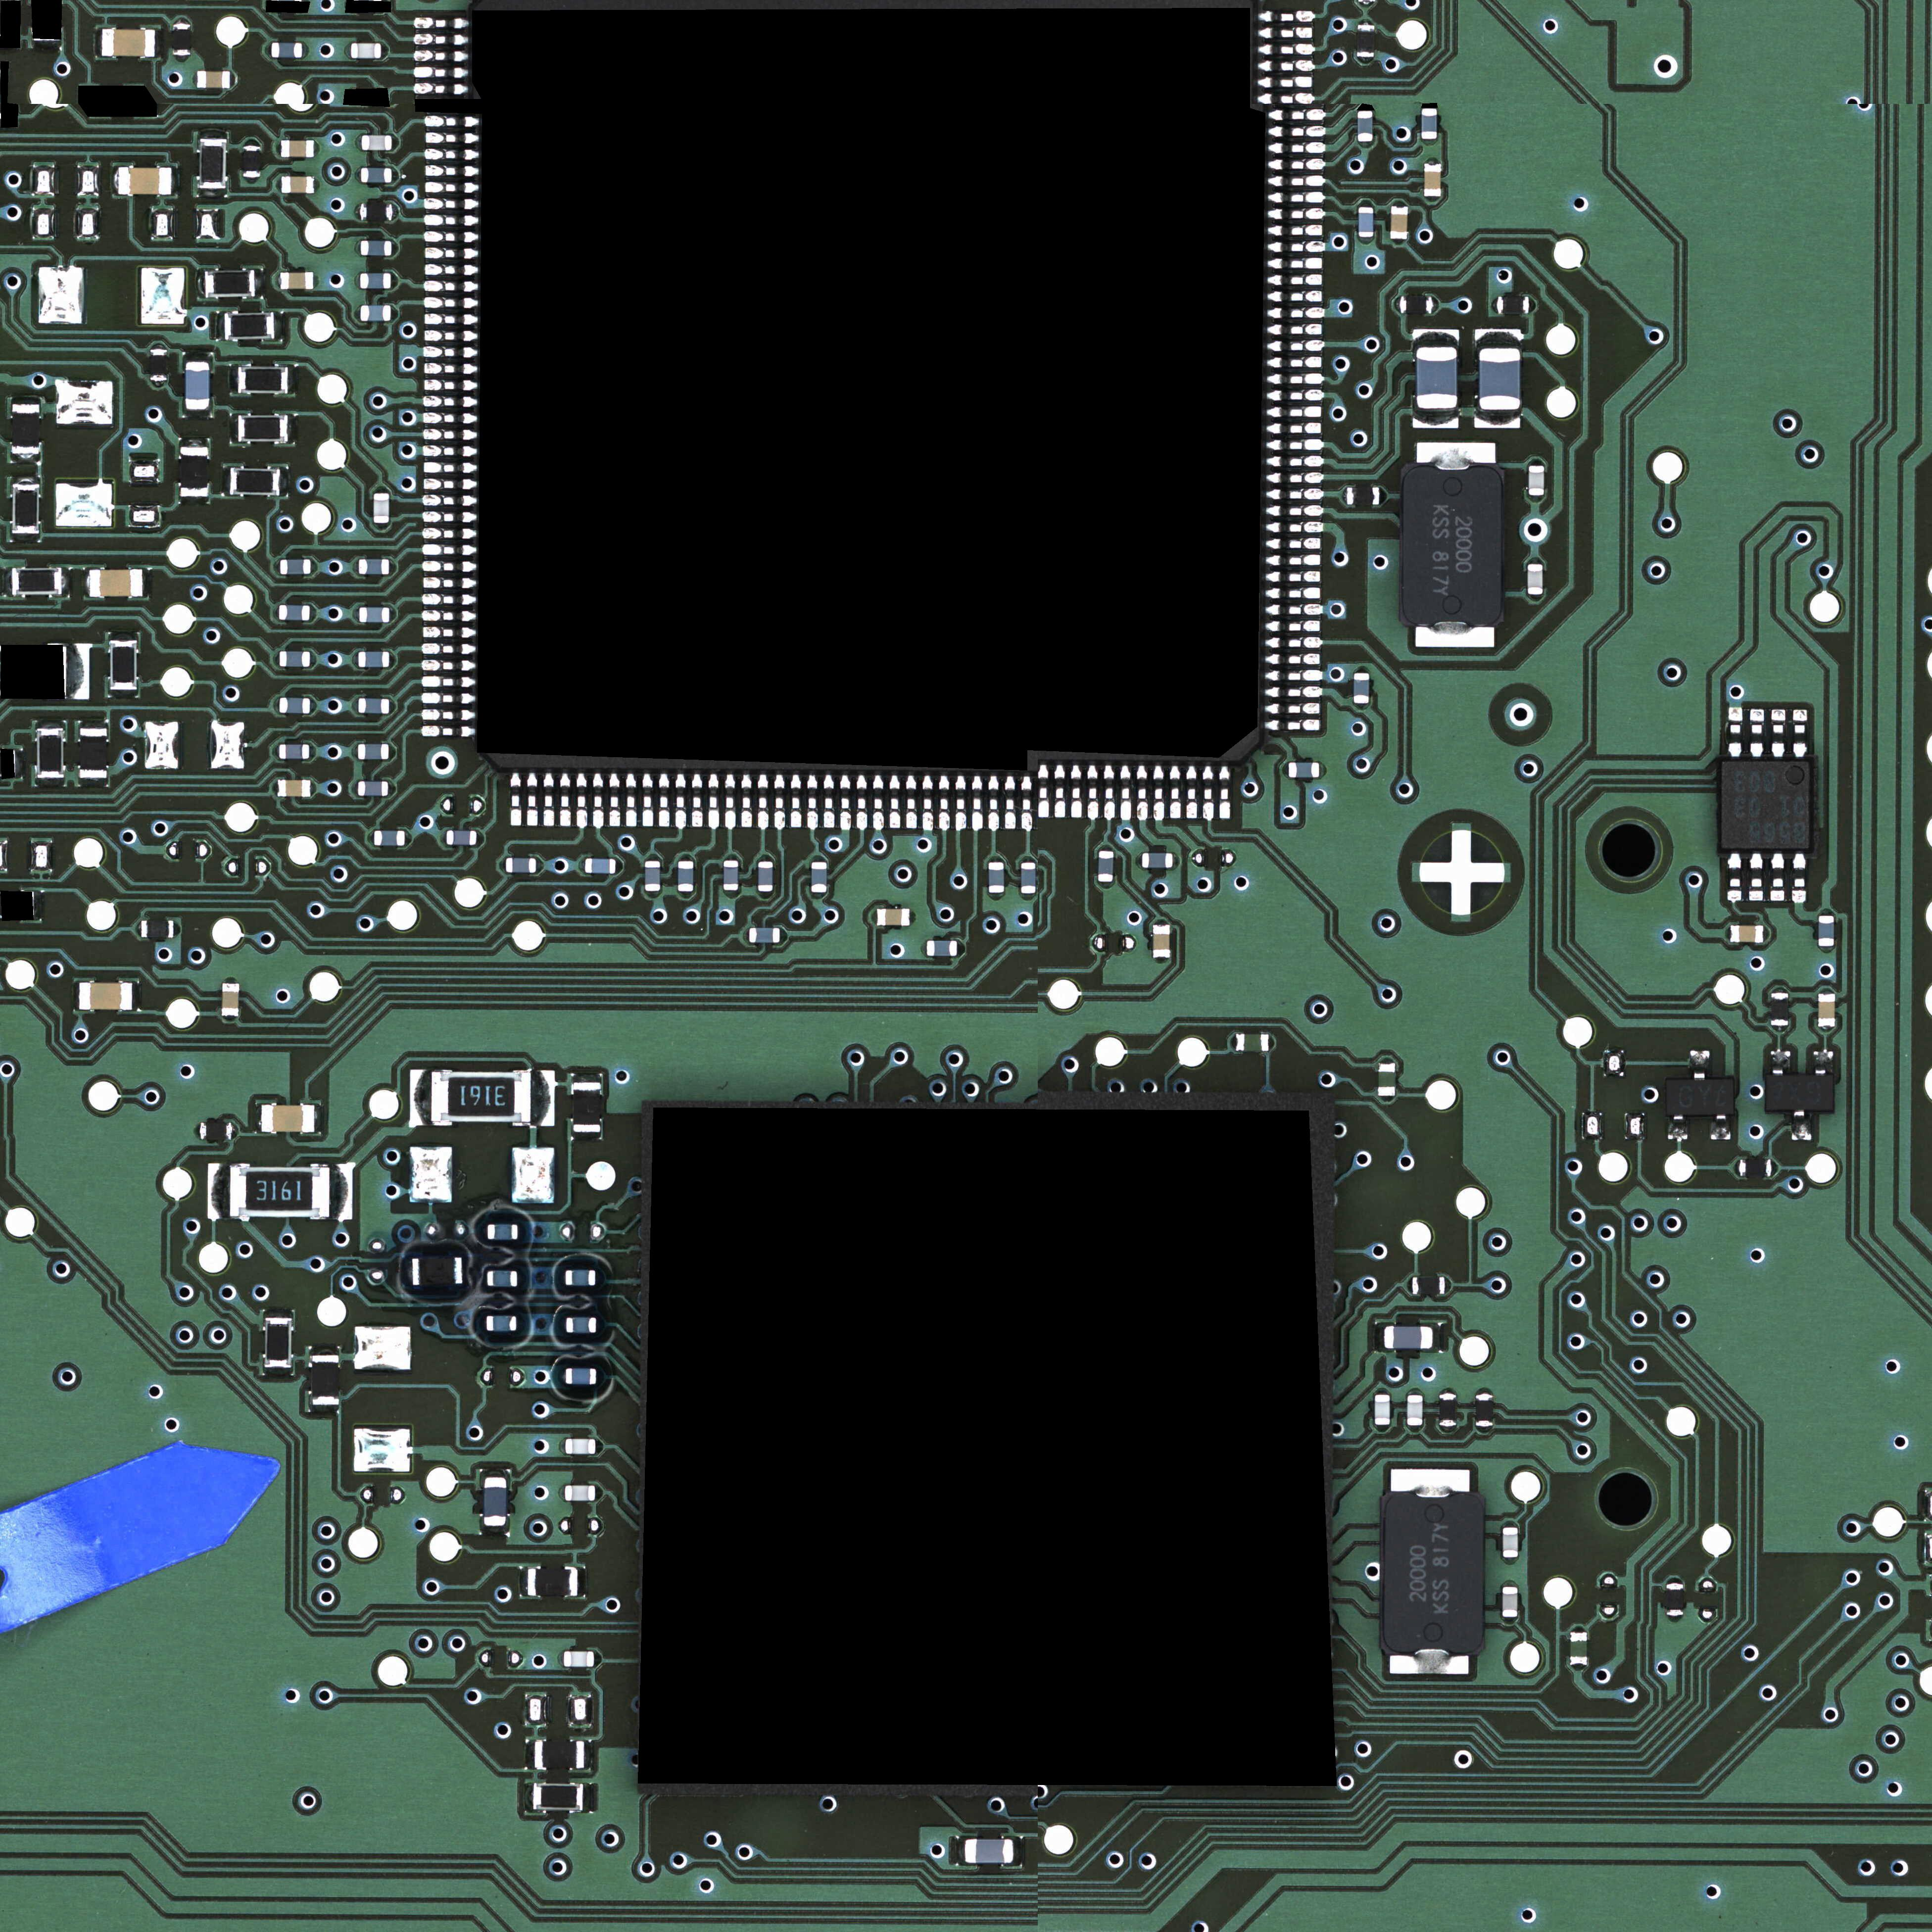Package: (1401, 465, 1504, 625), (1382, 1491, 1483, 1652), (1720, 761, 1810, 849), (432, 1070, 531, 1123), (230, 1168, 329, 1217), (1667, 1077, 1736, 1115), (1417, 347, 1458, 409), (1479, 349, 1520, 409), (1766, 1076, 1833, 1111), (412, 1256, 464, 1286), (119, 166, 172, 195), (80, 982, 133, 1010), (88, 570, 143, 596), (527, 1568, 579, 1596), (262, 1106, 315, 1132), (103, 30, 156, 57), (534, 1741, 584, 1769), (573, 1083, 602, 1132), (311, 1355, 340, 1405), (180, 448, 209, 497), (533, 1783, 584, 1810), (200, 138, 226, 189), (230, 469, 280, 495), (237, 416, 287, 442), (12, 403, 39, 453), (205, 271, 255, 297), (265, 1318, 292, 1368), (225, 313, 274, 340), (12, 485, 39, 534), (80, 729, 106, 778), (237, 368, 288, 393), (12, 570, 62, 594), (964, 1838, 1014, 1863), (111, 640, 136, 690), (37, 729, 62, 778), (186, 363, 211, 410), (1384, 1327, 1433, 1348), (485, 1477, 506, 1527), (242, 145, 262, 177), (1476, 1394, 1493, 1428), (1412, 1277, 1445, 1295), (1771, 993, 1789, 1026), (1730, 925, 1764, 943), (1399, 295, 1431, 313), (221, 984, 239, 1016), (281, 140, 313, 157), (1739, 1159, 1771, 1177), (1391, 207, 1408, 239), (198, 71, 230, 88), (1424, 165, 1442, 196), (1237, 1033, 1269, 1051), (361, 203, 393, 221), (200, 1122, 232, 1139), (1357, 25, 1375, 57), (142, 920, 173, 938), (1378, 1063, 1396, 1095), (281, 177, 315, 193), (1819, 993, 1835, 1026), (1346, 488, 1380, 504), (566, 1316, 596, 1334), (566, 1368, 596, 1385), (173, 25, 191, 55), (357, 743, 389, 759), (1353, 672, 1369, 704), (281, 272, 313, 288), (878, 909, 909, 925), (1497, 297, 1529, 313), (271, 42, 303, 58), (278, 780, 310, 796), (1571, 1633, 1587, 1665), (1440, 1394, 1456, 1426), (280, 559, 311, 575), (1667, 1583, 1683, 1615), (1154, 925, 1169, 957), (989, 862, 1005, 893), (357, 780, 387, 796), (359, 607, 389, 623), (487, 1270, 517, 1286), (1407, 1396, 1422, 1426), (359, 651, 389, 667), (280, 697, 310, 713), (1529, 465, 1545, 495), (359, 559, 389, 575), (488, 1224, 518, 1240), (280, 743, 310, 759), (373, 494, 389, 524), (1421, 108, 1437, 138), (566, 1438, 596, 1454), (350, 88, 380, 104), (566, 1270, 596, 1286), (280, 651, 310, 667), (1357, 111, 1373, 142), (586, 858, 616, 874), (280, 605, 310, 621), (361, 272, 391, 288), (1375, 1394, 1391, 1424), (361, 241, 391, 257), (1819, 916, 1835, 947), (564, 1651, 594, 1667), (750, 927, 780, 943), (150, 350, 166, 380), (1502, 1587, 1518, 1617), (678, 862, 694, 892), (352, 42, 380, 58), (566, 1484, 594, 1500), (373, 832, 405, 846), (363, 134, 391, 150), (448, 830, 476, 846), (1288, 763, 1320, 777), (1141, 853, 1173, 867), (359, 699, 389, 713), (646, 862, 660, 892), (759, 862, 773, 892), (361, 306, 391, 320), (1529, 564, 1543, 594), (1099, 851, 1113, 881), (927, 941, 957, 955), (812, 862, 826, 892), (487, 1316, 517, 1330), (506, 858, 536, 872), (1021, 863, 1035, 893), (724, 860, 738, 890), (1359, 207, 1373, 237), (361, 168, 391, 182), (1504, 1527, 1518, 1557)
Solder: (1415, 441, 1495, 465), (1391, 1468, 1470, 1491), (1415, 626, 1495, 648), (1391, 1654, 1468, 1674), (533, 1070, 556, 1127), (331, 1164, 352, 1221), (67, 644, 88, 701), (209, 1164, 230, 1219), (410, 1070, 430, 1127), (1414, 409, 1460, 428), (1474, 410, 1522, 428), (1476, 329, 1523, 347), (1727, 708, 1743, 759), (1414, 329, 1460, 347), (1792, 709, 1806, 759), (1792, 853, 1806, 902), (1771, 709, 1785, 759), (1750, 709, 1764, 759), (1136, 764, 1148, 821), (1258, 42, 1315, 55), (1258, 92, 1315, 104), (414, 18, 469, 30), (414, 34, 469, 46), (414, 50, 469, 62), (414, 83, 469, 96), (425, 147, 479, 159), (425, 182, 479, 195), (425, 198, 479, 211), (425, 214, 479, 226), (425, 264, 479, 276), (425, 280, 479, 292), (425, 295, 479, 308), (423, 462, 478, 474), (423, 395, 478, 407), (423, 446, 478, 458), (423, 478, 478, 490), (421, 642, 476, 655), (421, 658, 476, 671), (421, 694, 476, 706), (421, 725, 476, 738), (423, 559, 478, 571), (423, 575, 478, 587), (423, 511, 478, 524), (971, 775, 984, 830), (1102, 764, 1115, 819), (1258, 76, 1313, 88), (1771, 853, 1785, 901), (1727, 853, 1741, 901), (1750, 853, 1764, 901), (426, 115, 479, 127), (426, 131, 479, 143), (425, 331, 478, 343), (425, 347, 478, 359), (425, 363, 478, 375), (425, 379, 478, 391), (423, 593, 476, 605), (423, 626, 476, 639), (1185, 766, 1198, 819), (1790, 1111, 1812, 1141), (1269, 175, 1327, 186), (1267, 439, 1325, 449), (989, 775, 1000, 832), (1154, 764, 1164, 821), (1258, 11, 1315, 21), (1258, 60, 1315, 71), (1269, 110, 1325, 120), (1269, 159, 1325, 170), (1269, 191, 1325, 202), (1269, 209, 1325, 219), (1269, 242, 1325, 253), (1267, 389, 1323, 400), (1267, 373, 1323, 384), (1269, 308, 1325, 318), (1267, 324, 1323, 334), (1267, 456, 1323, 467), (1267, 472, 1323, 483), (1267, 488, 1323, 499), (1267, 504, 1323, 515), (1267, 522, 1323, 533), (1265, 655, 1322, 665), (1265, 671, 1322, 681), (1265, 571, 1322, 582), (1265, 605, 1322, 616), (1265, 637, 1322, 648), (1265, 686, 1322, 697), (1265, 704, 1322, 715), (414, 67, 469, 78), (425, 165, 479, 175), (425, 232, 479, 242), (425, 248, 479, 258), (425, 315, 479, 326), (423, 412, 478, 423), (423, 428, 478, 439), (423, 495, 478, 506), (421, 678, 476, 688), (421, 709, 476, 720), (423, 545, 478, 556), (423, 527, 478, 538), (577, 773, 587, 828), (593, 773, 603, 828), (807, 775, 817, 830), (775, 775, 786, 830), (676, 773, 686, 828), (708, 775, 718, 830), (725, 775, 736, 830), (955, 775, 966, 830), (939, 775, 950, 830), (922, 775, 932, 830), (840, 775, 851, 830), (856, 775, 867, 830), (872, 775, 883, 830), (890, 775, 901, 830), (1021, 777, 1031, 832), (1039, 764, 1049, 819), (1054, 764, 1065, 819), (1120, 764, 1131, 819), (1258, 28, 1313, 39), (1269, 225, 1323, 235), (1269, 258, 1323, 269), (1269, 292, 1323, 303), (1267, 407, 1322, 418), (1267, 357, 1322, 368), (1267, 423, 1322, 433), (1265, 587, 1320, 598), (1265, 621, 1320, 632), (1265, 556, 1320, 566), (1265, 720, 1320, 731), (423, 610, 476, 621), (511, 773, 522, 826), (527, 773, 538, 826), (543, 773, 554, 826), (561, 773, 571, 826), (609, 773, 619, 826), (626, 773, 637, 826), (642, 773, 653, 826), (658, 773, 669, 826), (741, 775, 752, 828), (791, 775, 801, 828), (692, 773, 702, 826), (906, 775, 916, 828), (1005, 777, 1016, 830), (1203, 766, 1214, 819), (1219, 766, 1230, 819), (1169, 764, 1180, 817), (1269, 274, 1322, 285), (1267, 538, 1320, 548), (1690, 1051, 1709, 1079), (1088, 766, 1099, 817), (1269, 127, 1327, 136), (1269, 143, 1325, 152), (1269, 341, 1325, 350), (759, 775, 768, 830), (1711, 1115, 1730, 1139), (1668, 1115, 1688, 1139), (1771, 1051, 1790, 1076), (824, 775, 833, 828), (1072, 764, 1081, 817), (1813, 1051, 1833, 1074), (34, 890, 44, 924), (179, 437, 211, 448), (16, 748, 27, 778), (32, 41, 62, 51), (1433, 1323, 1444, 1352), (182, 352, 214, 361), (9, 534, 41, 543), (78, 778, 110, 787), (518, 1566, 527, 1598), (308, 1405, 340, 1414), (11, 455, 41, 464), (525, 1739, 534, 1769), (78, 720, 108, 729), (479, 1527, 510, 1536), (479, 1468, 510, 1477), (579, 1568, 587, 1598), (262, 1368, 292, 1376), (108, 632, 138, 640), (172, 166, 180, 196), (196, 189, 226, 198), (198, 129, 228, 138), (255, 269, 264, 299), (196, 269, 205, 299), (274, 311, 283, 341), (216, 311, 225, 341), (288, 364, 297, 395), (228, 364, 237, 395), (288, 414, 297, 444), (62, 568, 71, 598), (4, 568, 12, 598), (584, 1783, 593, 1813), (524, 1783, 533, 1813), (264, 1309, 294, 1318), (310, 1346, 340, 1355), (35, 778, 65, 787), (35, 720, 65, 729), (108, 690, 138, 699), (584, 1741, 593, 1769), (94, 27, 101, 58), (571, 1074, 602, 1081), (11, 476, 41, 483), (182, 410, 212, 418), (156, 28, 163, 58), (179, 497, 209, 504), (281, 467, 288, 497), (230, 414, 237, 444), (81, 568, 88, 598), (143, 568, 150, 598), (571, 1132, 602, 1139), (11, 396, 41, 403), (111, 166, 119, 195), (223, 467, 230, 495), (1376, 1323, 1384, 1352), (315, 1104, 322, 1132), (133, 982, 140, 1010), (1014, 1836, 1021, 1865), (957, 1836, 964, 1865), (255, 1102, 260, 1134), (464, 1256, 469, 1286), (407, 1256, 412, 1286), (74, 980, 80, 1010), (1097, 881, 1115, 890), (1421, 138, 1438, 147), (391, 241, 400, 257), (380, 88, 389, 104), (391, 134, 400, 150), (391, 168, 400, 184), (387, 780, 396, 796), (476, 830, 485, 846), (724, 890, 740, 899), (1407, 1387, 1422, 1396), (517, 1316, 525, 1332), (596, 1368, 605, 1384), (557, 1368, 566, 1384), (594, 1484, 603, 1500), (596, 1270, 605, 1286), (343, 44, 352, 58), (391, 272, 398, 290), (173, 18, 191, 25), (957, 939, 964, 957), (987, 893, 1005, 901), (987, 855, 1005, 862), (1019, 856, 1037, 863), (1019, 893, 1037, 901), (1097, 844, 1115, 851), (1378, 1056, 1396, 1063), (1771, 1026, 1789, 1033), (1819, 987, 1836, 994), (1445, 1277, 1453, 1295), (1476, 1387, 1493, 1394), (1732, 1159, 1739, 1177), (1391, 239, 1408, 246), (1391, 200, 1408, 207), (1424, 157, 1442, 165), (479, 1224, 488, 1238), (596, 1318, 605, 1332), (594, 1651, 602, 1668), (557, 1270, 566, 1284), (391, 304, 398, 320), (757, 855, 773, 862), (343, 88, 350, 104), (354, 134, 361, 150), (393, 203, 400, 219), (354, 272, 361, 288), (354, 304, 361, 320), (303, 42, 310, 58), (173, 55, 189, 62), (244, 138, 260, 145), (244, 177, 260, 184), (313, 142, 320, 157), (150, 380, 166, 387), (150, 343, 166, 350), (352, 559, 359, 575), (389, 559, 396, 575), (373, 524, 389, 531), (373, 487, 389, 494), (389, 607, 396, 623), (352, 607, 359, 623), (389, 651, 396, 667), (389, 743, 396, 759), (405, 830, 412, 846), (441, 830, 448, 846), (579, 858, 586, 874), (616, 858, 623, 874), (646, 892, 662, 899), (644, 855, 660, 862), (678, 855, 694, 862), (678, 892, 694, 899), (724, 853, 740, 860), (812, 892, 828, 899), (810, 855, 826, 862), (780, 927, 787, 943), (870, 909, 878, 925), (909, 909, 916, 925), (920, 939, 927, 955), (1134, 853, 1141, 869), (1173, 853, 1180, 869), (1154, 918, 1169, 925), (1154, 957, 1169, 964), (1320, 763, 1327, 778), (1353, 665, 1369, 672), (1380, 488, 1387, 504), (1529, 458, 1545, 465), (1529, 495, 1545, 502), (1527, 557, 1543, 564), (1527, 594, 1543, 602), (1819, 947, 1835, 954), (1819, 909, 1835, 916), (1407, 1426, 1422, 1433), (1440, 1426, 1456, 1433), (1440, 1387, 1456, 1394), (1502, 1557, 1518, 1564), (1502, 1580, 1518, 1587), (1502, 1617, 1518, 1624), (1667, 1576, 1683, 1583), (1667, 1615, 1683, 1622), (1529, 297, 1536, 313), (1431, 297, 1438, 313), (1359, 237, 1375, 244), (1359, 200, 1375, 207), (1357, 142, 1373, 149), (518, 1224, 525, 1240), (518, 1270, 525, 1286), (479, 1315, 487, 1330), (596, 1438, 603, 1454), (559, 1438, 566, 1454), (557, 1651, 564, 1667), (193, 1123, 200, 1139), (223, 1016, 239, 1023), (223, 977, 239, 984), (173, 922, 180, 938), (310, 605, 317, 621), (272, 697, 280, 713), (1357, 18, 1373, 25), (382, 44, 389, 58), (354, 168, 361, 182), (354, 241, 361, 255), (352, 653, 359, 667), (389, 699, 396, 713), (352, 699, 359, 713), (499, 858, 506, 872), (536, 858, 543, 872), (759, 892, 773, 899), (1230, 1035, 1237, 1049), (1504, 1520, 1518, 1527), (1571, 1626, 1585, 1633), (559, 1318, 566, 1332), (272, 605, 280, 619), (272, 651, 280, 665), (310, 653, 317, 667), (310, 699, 317, 713), (272, 745, 280, 759), (310, 745, 317, 759), (1378, 1097, 1396, 1102), (1771, 987, 1789, 993), (1819, 1026, 1836, 1031), (1764, 925, 1769, 943), (1725, 925, 1730, 943), (1407, 1277, 1412, 1295), (1476, 1428, 1493, 1433), (1773, 1159, 1778, 1177), (1394, 295, 1399, 313), (1424, 196, 1442, 202), (232, 1122, 237, 1139), (354, 203, 359, 219), (230, 71, 235, 87), (276, 177, 281, 193), (315, 177, 320, 193), (313, 272, 318, 288), (276, 272, 281, 288), (311, 559, 317, 575), (352, 743, 357, 759), (352, 780, 357, 796), (368, 830, 373, 846), (743, 927, 748, 943), (1270, 1035, 1276, 1051), (1283, 763, 1288, 778), (1353, 704, 1369, 709), (1375, 1389, 1391, 1394), (1375, 1426, 1391, 1431), (1571, 1665, 1587, 1670), (1491, 297, 1497, 313), (559, 1484, 564, 1500), (311, 780, 317, 796), (272, 780, 278, 796), (1357, 58, 1373, 64), (265, 42, 271, 57), (276, 142, 281, 156), (274, 559, 280, 573), (136, 922, 142, 936), (193, 71, 196, 88), (1343, 488, 1346, 504), (483, 1270, 487, 1286)
